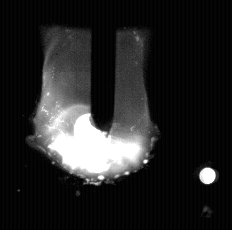arame: (92, 0, 116, 138)
poca: (34, 0, 156, 230)
